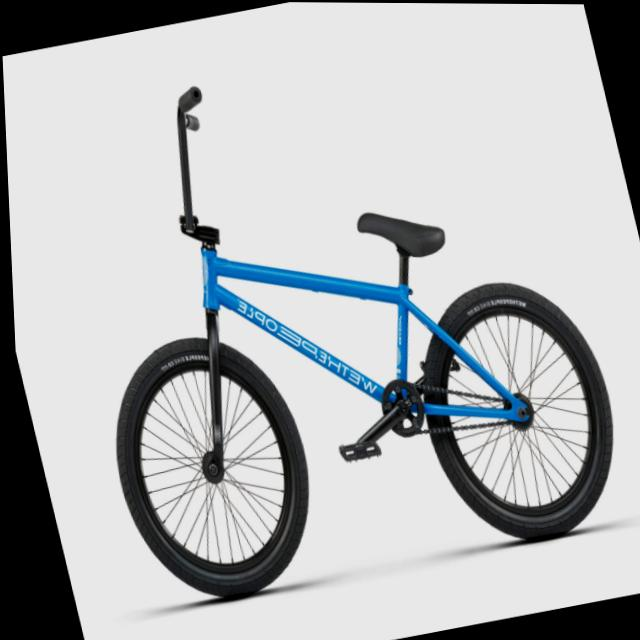bmx-bike: (28, 20, 635, 616)
